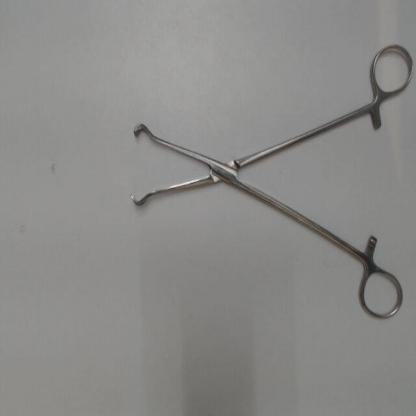8 Babcock Tissue Forceps: (125, 39, 414, 326)
